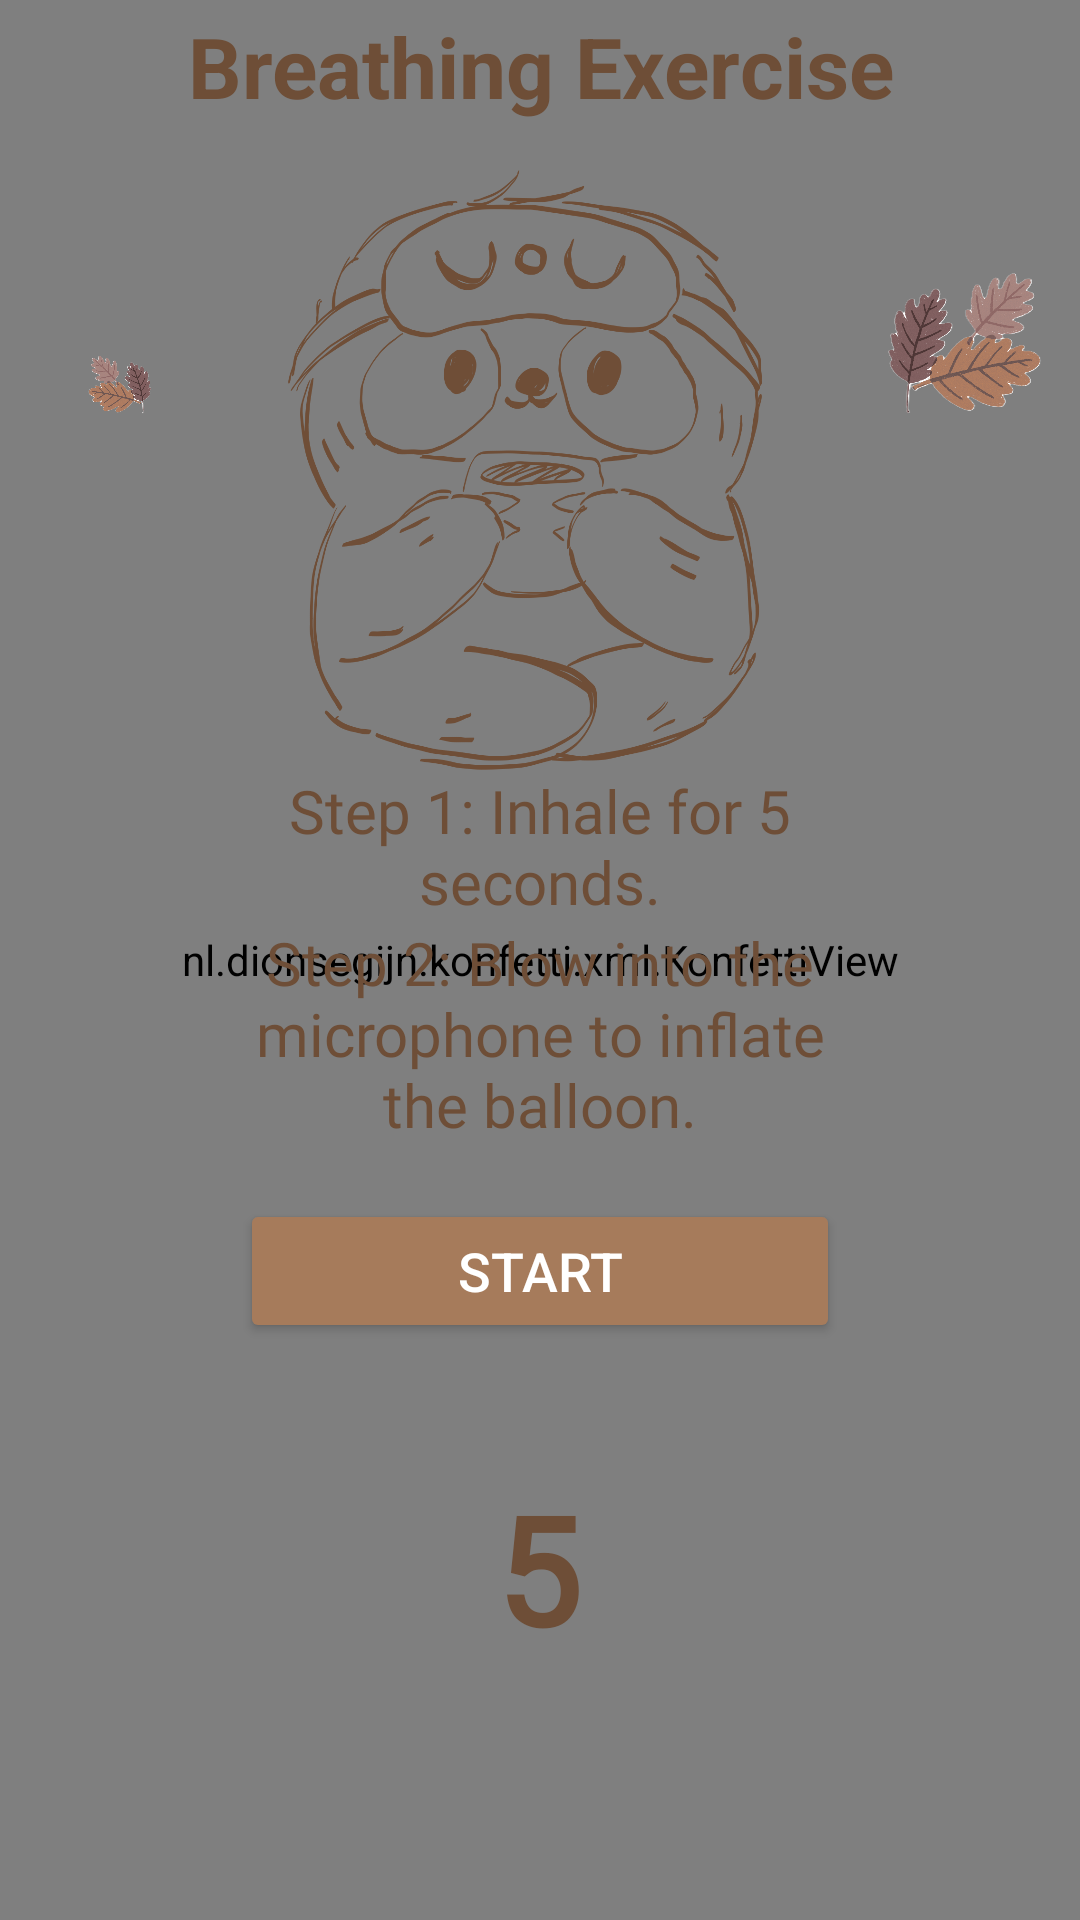

Icon click points for this 1080 x 1920 phone screenshot, format [x,y]:
automn leaves left: [120,384]
automn leaves right: [964,343]
